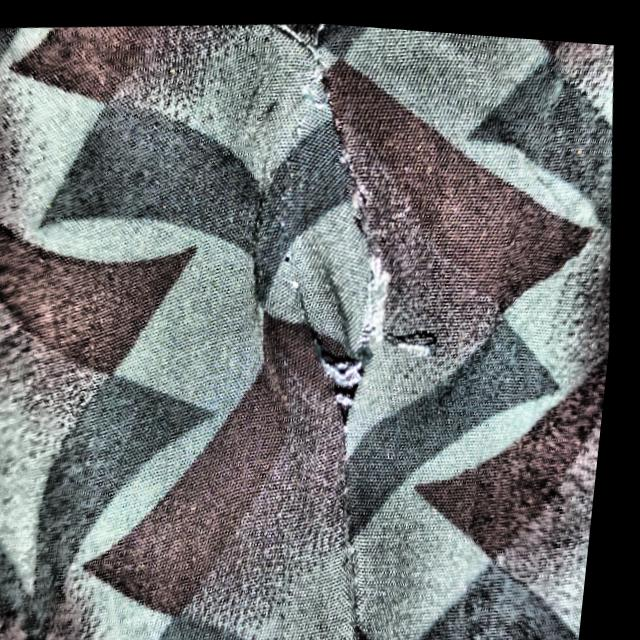seam: (193, 26, 534, 451)
